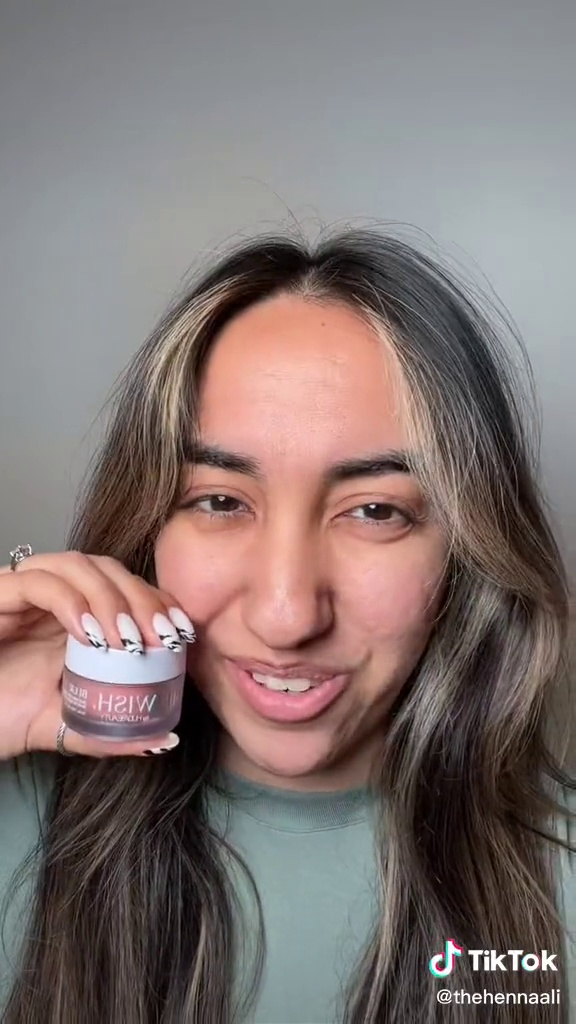train' :'yolo_data/train/images',: (76, 652, 224, 804)
